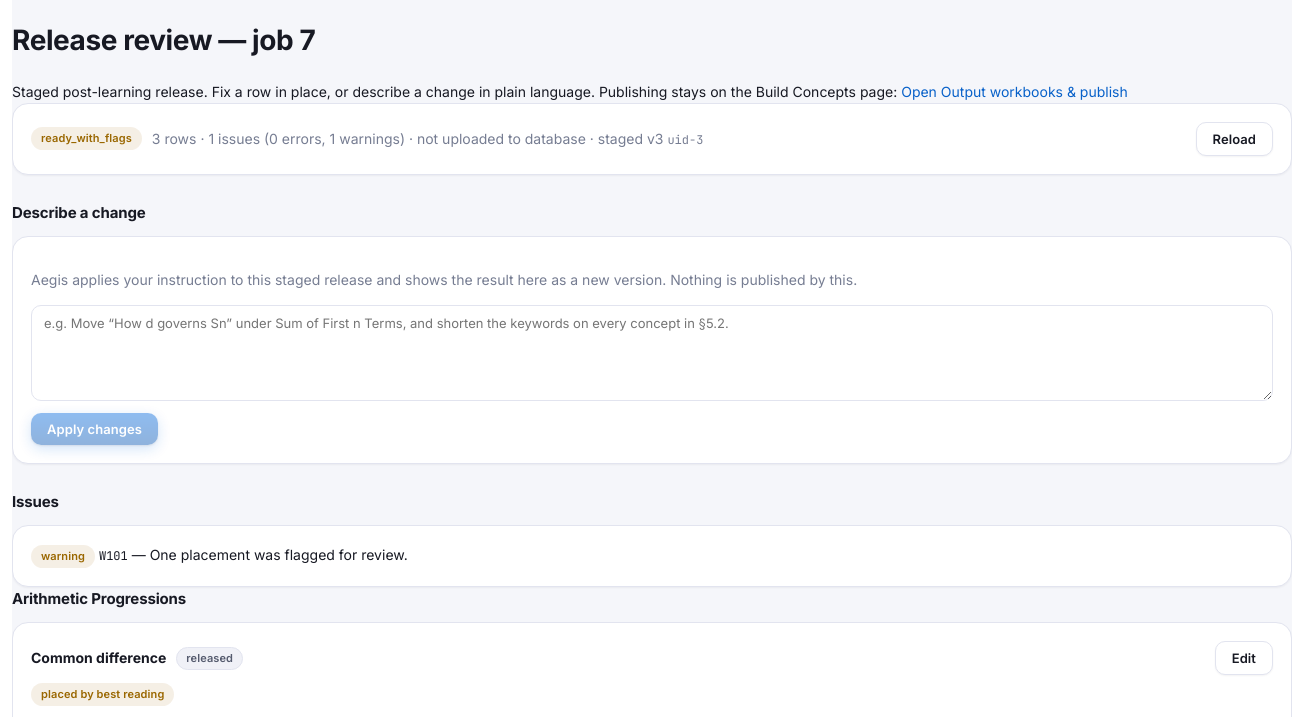
Scenario: the apply button is disabled while a round is in flight and when empty
This screenshot has width=1292, height=717.
Expected: the button with test id "apply-instruction" is disabled, [31,412,158,444]
Replace the text in the text box with test id "instruction-box" with "Do the thing." at {"x": 652, "y": 352}, box [31,304,1273,400]
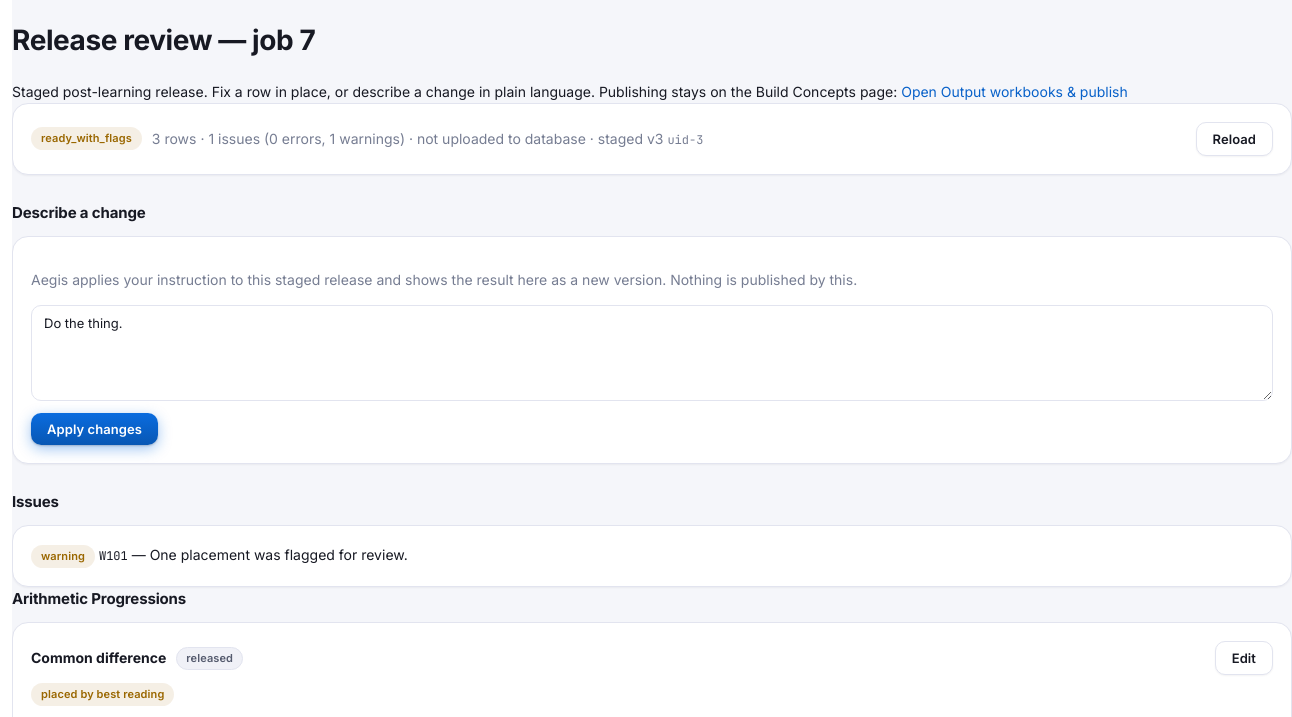
Now the button with test id "apply-instruction" is enabled
Click the button with test id "apply-instruction".
click(94, 428)  # box [31,412,158,444]
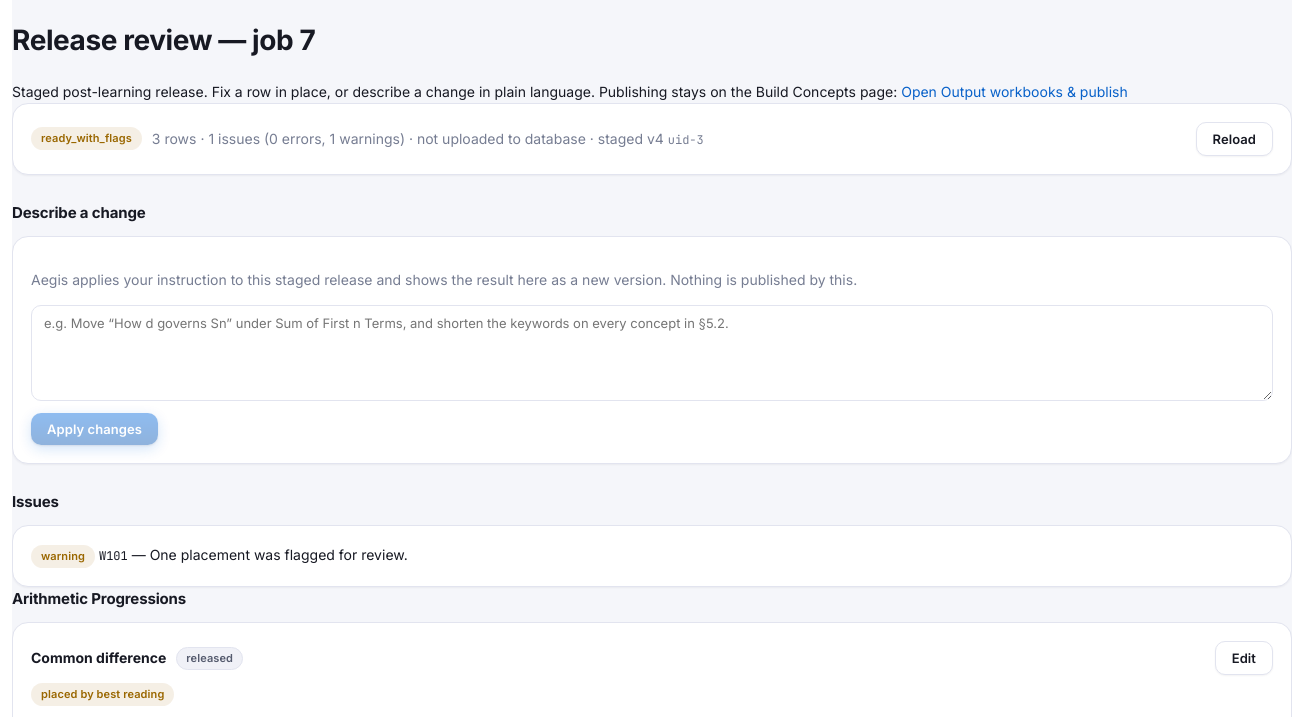
Now the button with test id "apply-instruction" is disabled, box [31,412,158,444]
